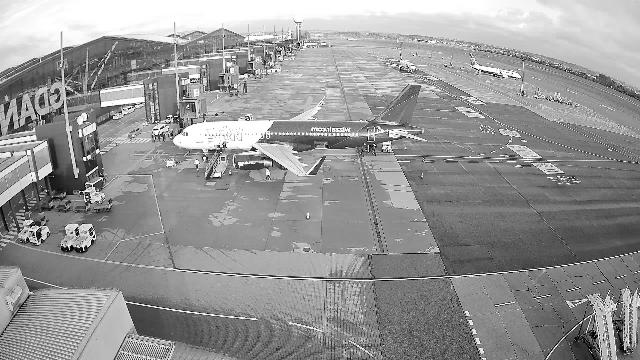Aircraft: (173, 83, 428, 176), (469, 53, 522, 79), (383, 51, 427, 70)
Airport_Tractor: (73, 223, 97, 252), (60, 223, 80, 252), (18, 220, 39, 244), (84, 186, 105, 204), (238, 114, 254, 121)
Baggage_Trolley: (85, 176, 104, 190), (93, 198, 112, 212), (72, 200, 90, 213), (41, 196, 56, 210), (32, 215, 46, 229), (55, 200, 71, 212), (52, 190, 66, 200)
Conveyor_Belt: (204, 151, 230, 179), (205, 106, 222, 116)
Ground_Crew: (264, 168, 271, 180), (194, 158, 200, 171)
Passengers: (168, 131, 174, 140), (151, 132, 156, 142), (162, 132, 165, 142), (174, 128, 178, 135), (157, 132, 160, 141), (129, 133, 132, 141)
Pushback_Tug: (269, 67, 282, 72)
